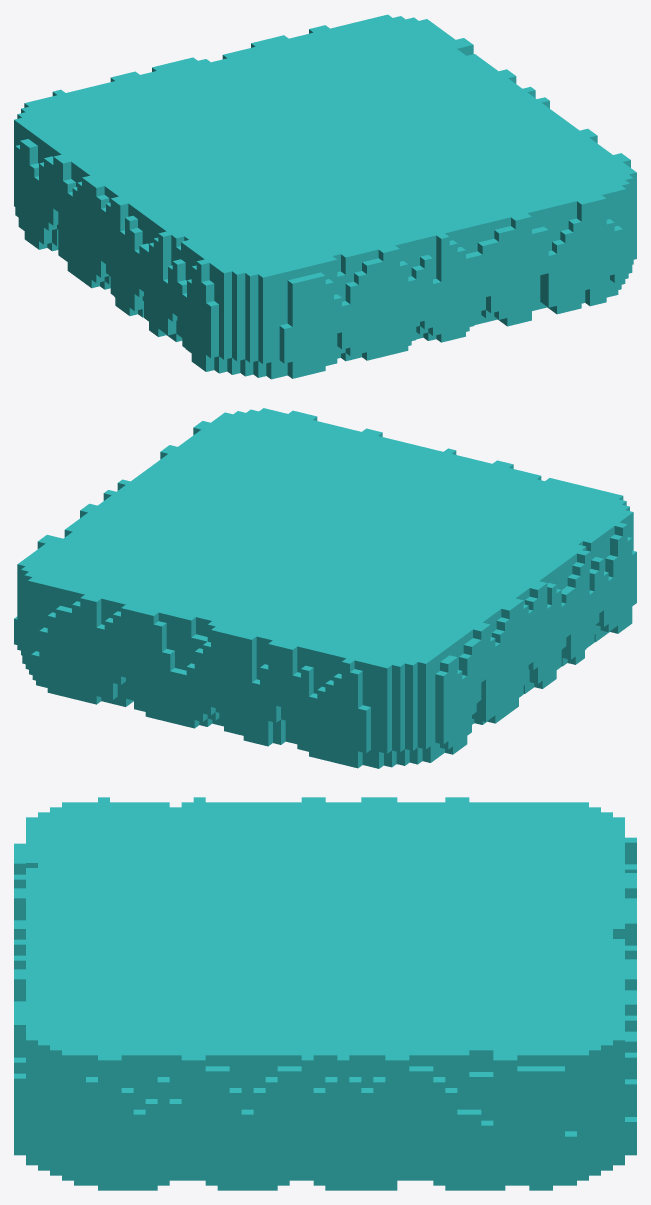
File: ice-0.obj
The picture shows the model from 3 angles, top to bottom: view 1: azimuth 30°, elevation 25°; view 2: azimuth 150°, elevation 25°; view 3: azimuth 270°, elevation 25°; orthographic projection. The views are drawn at different scales.
Size of the model in its own units: 5.2 by 1.2 by 5.2.
1 material, 1 textured.
